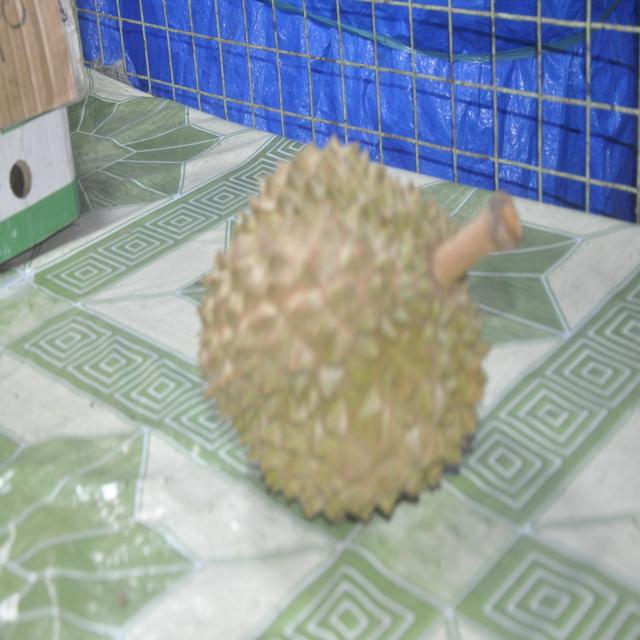mature: (200, 137, 522, 523)
